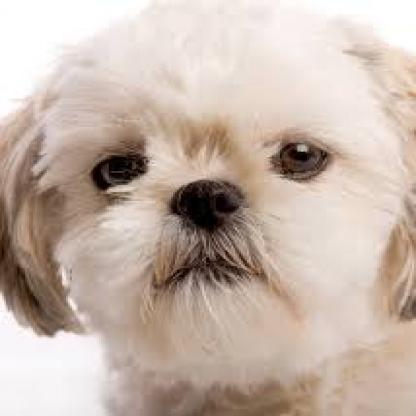Shih Tzu: (2, 0, 361, 368)
